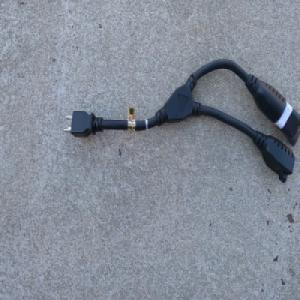Wire: (62, 58, 300, 183)
